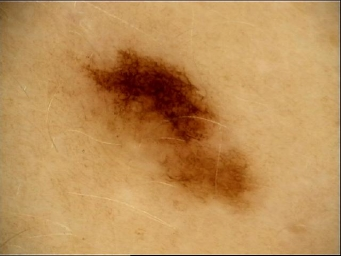nevus: (71, 35, 278, 215)
